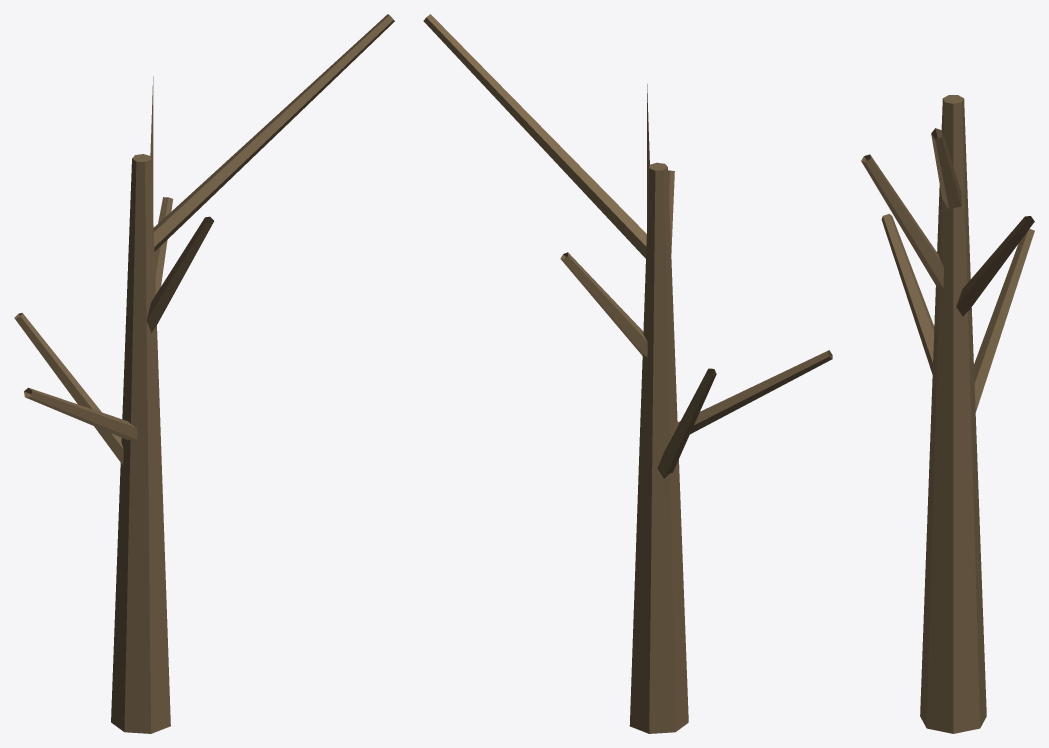
The model's file is dead_tree_snag.obj.
3 renders of one model, left to right at view 1: azimuth 30°, elevation 25°; view 2: azimuth 150°, elevation 25°; view 3: azimuth 270°, elevation 25°, orthographic. The views are drawn at different scales.
Parts seen in each view (by area): view 1: dead_tree_snag; view 2: dead_tree_snag; view 3: dead_tree_snag.
Part boxes in pixels (x1,y1,x2,y2): dead_tree_snag: (14,14,394,733); dead_tree_snag: (423,14,832,733); dead_tree_snag: (861,95,1034,733).
Size of the model in its own units: 1.38 by 2.21 by 0.4828.
